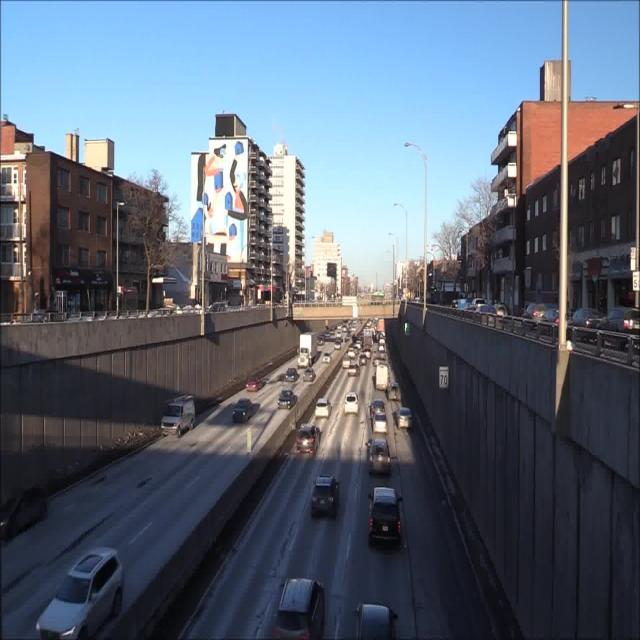Car: (30, 536, 126, 640), (271, 566, 330, 640), (0, 474, 56, 546), (305, 460, 344, 532), (367, 480, 405, 551), (158, 388, 200, 442), (353, 594, 398, 640), (366, 431, 394, 483), (290, 419, 322, 464), (366, 391, 392, 436), (388, 398, 414, 436), (225, 396, 258, 425), (274, 385, 298, 416), (338, 385, 363, 414), (244, 368, 269, 396), (312, 396, 334, 422), (284, 361, 298, 389), (300, 365, 316, 385)
Truck: (296, 331, 319, 374), (370, 352, 392, 389)
